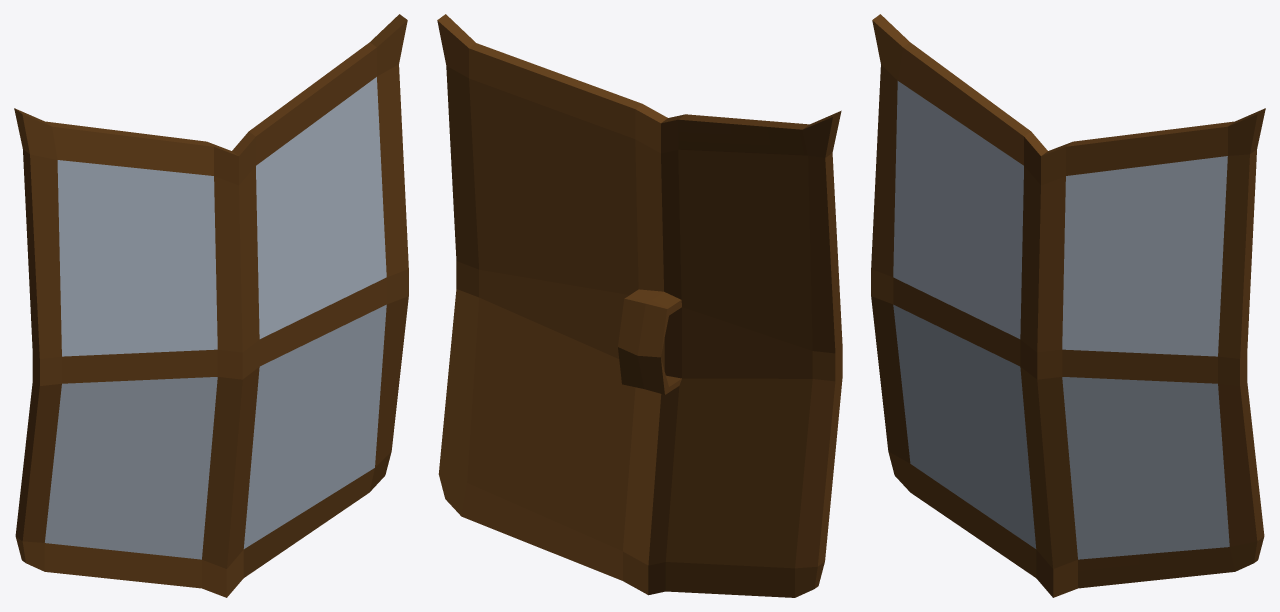
The model's file is SteelKiteshield.glb.
The picture shows the model from 3 angles, left to right: view 1: azimuth 30°, elevation 25°; view 2: azimuth 150°, elevation 25°; view 3: azimuth 330°, elevation 25°; orthographic projection. The views are drawn at different scales.
Visible parts, largest first — view 1: Kiteshield; view 2: Kiteshield; view 3: Kiteshield.
Boxes of the visible parts, x1=… form: Kiteshield: x1=14, y1=14, x2=408, y2=597; Kiteshield: x1=437, y1=14, x2=842, y2=597; Kiteshield: x1=871, y1=14, x2=1265, y2=597.
Size of the model in its own units: 0.6266 by 0.8115 by 0.12.
